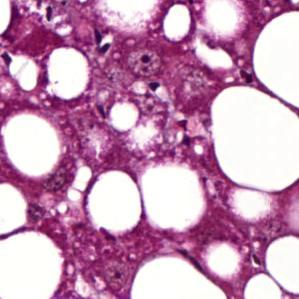steatosis: (85, 168, 144, 236), (1, 112, 60, 175), (41, 44, 88, 99), (162, 2, 191, 41)
